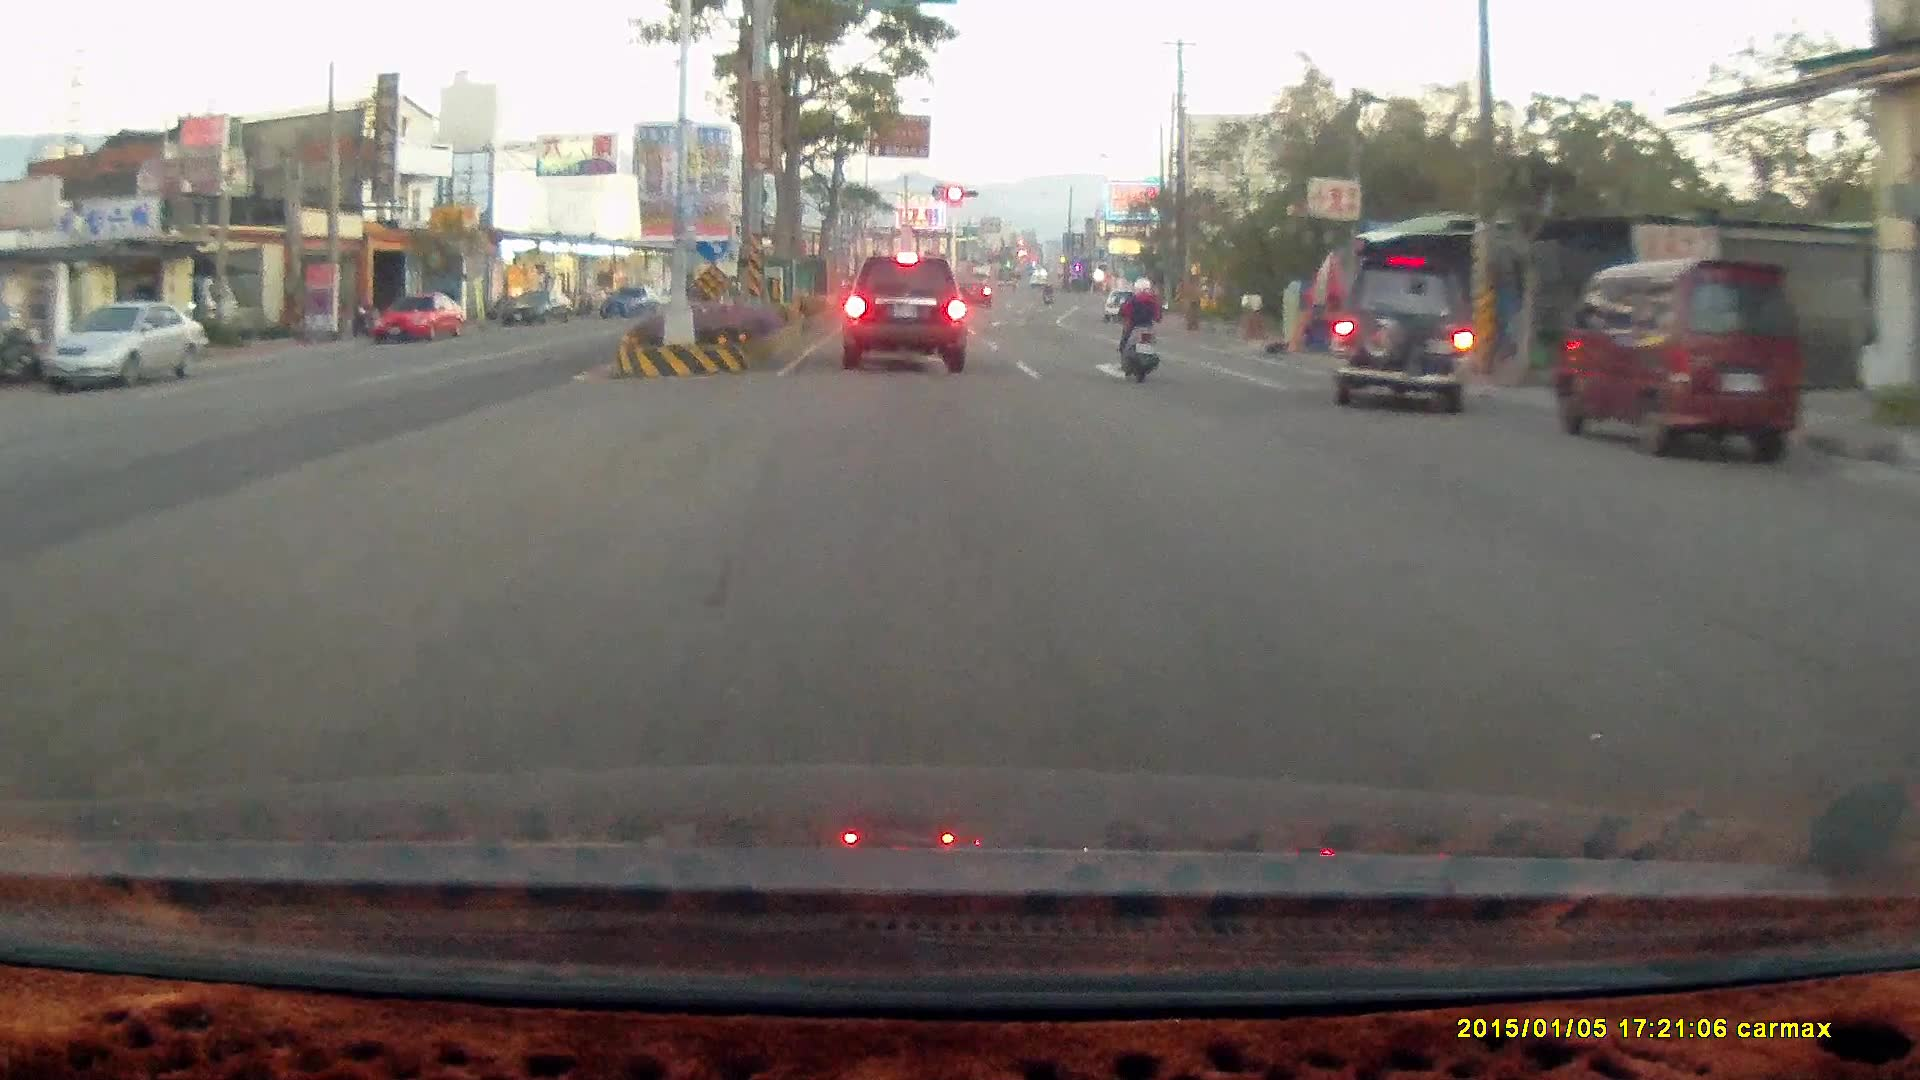rider: (1116, 274, 1166, 381)
vehicle: (1546, 256, 1801, 463), (1553, 256, 1806, 461), (1331, 256, 1487, 418), (1326, 253, 1472, 416), (42, 301, 208, 396), (840, 254, 966, 373), (41, 300, 206, 391), (1896, 493, 1920, 836), (1883, 528, 1920, 690), (376, 291, 469, 345), (371, 291, 466, 342), (1103, 290, 1150, 324)
